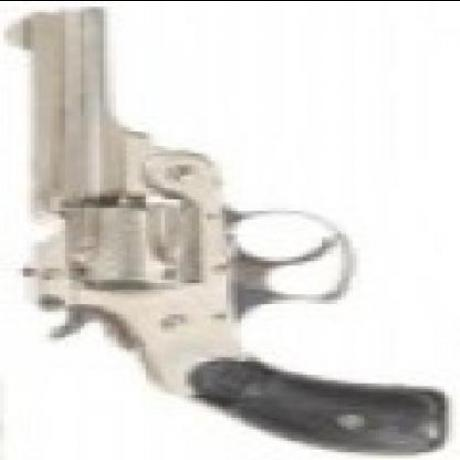weapon: (4, 1, 452, 460)
